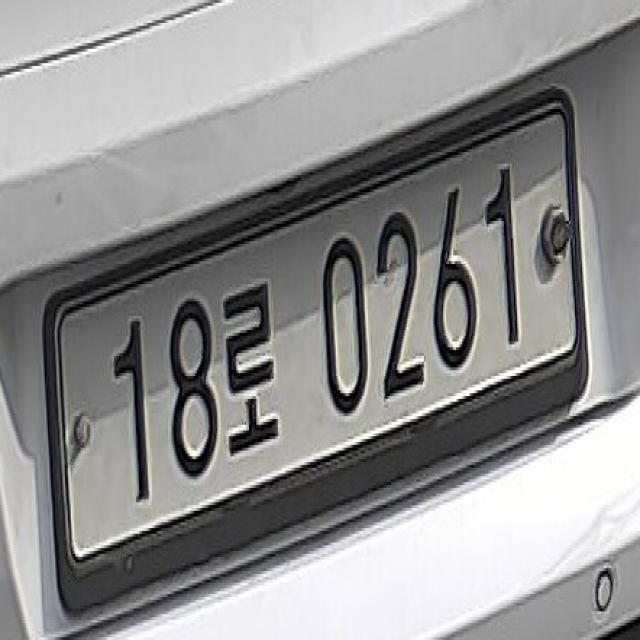0: (320, 221, 371, 422)
1: (109, 302, 159, 522), (482, 155, 527, 364)
2: (375, 201, 424, 405)
6: (426, 163, 484, 384)
8: (165, 278, 222, 488)
license_plate: (31, 69, 595, 640)
lo: (220, 264, 285, 474)
